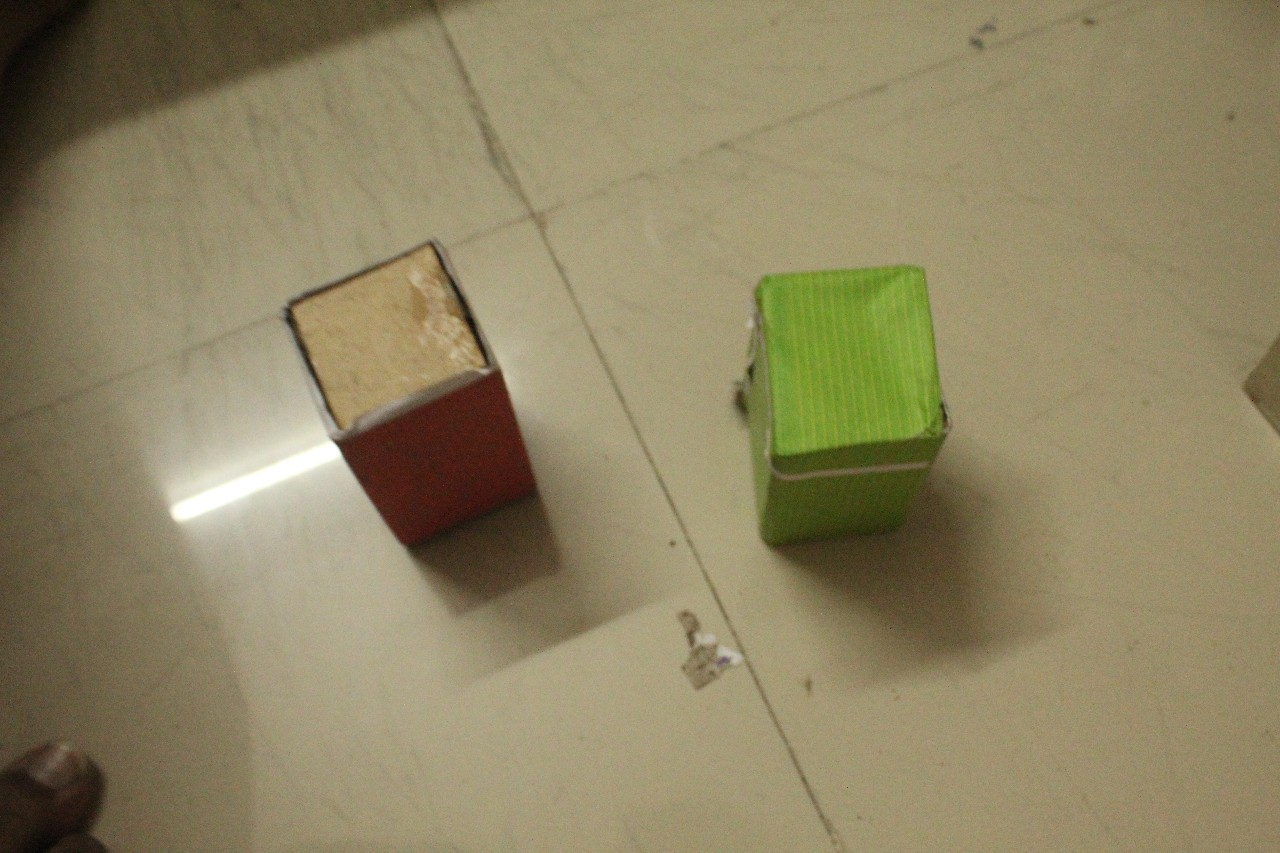green: (731, 249, 955, 559)
